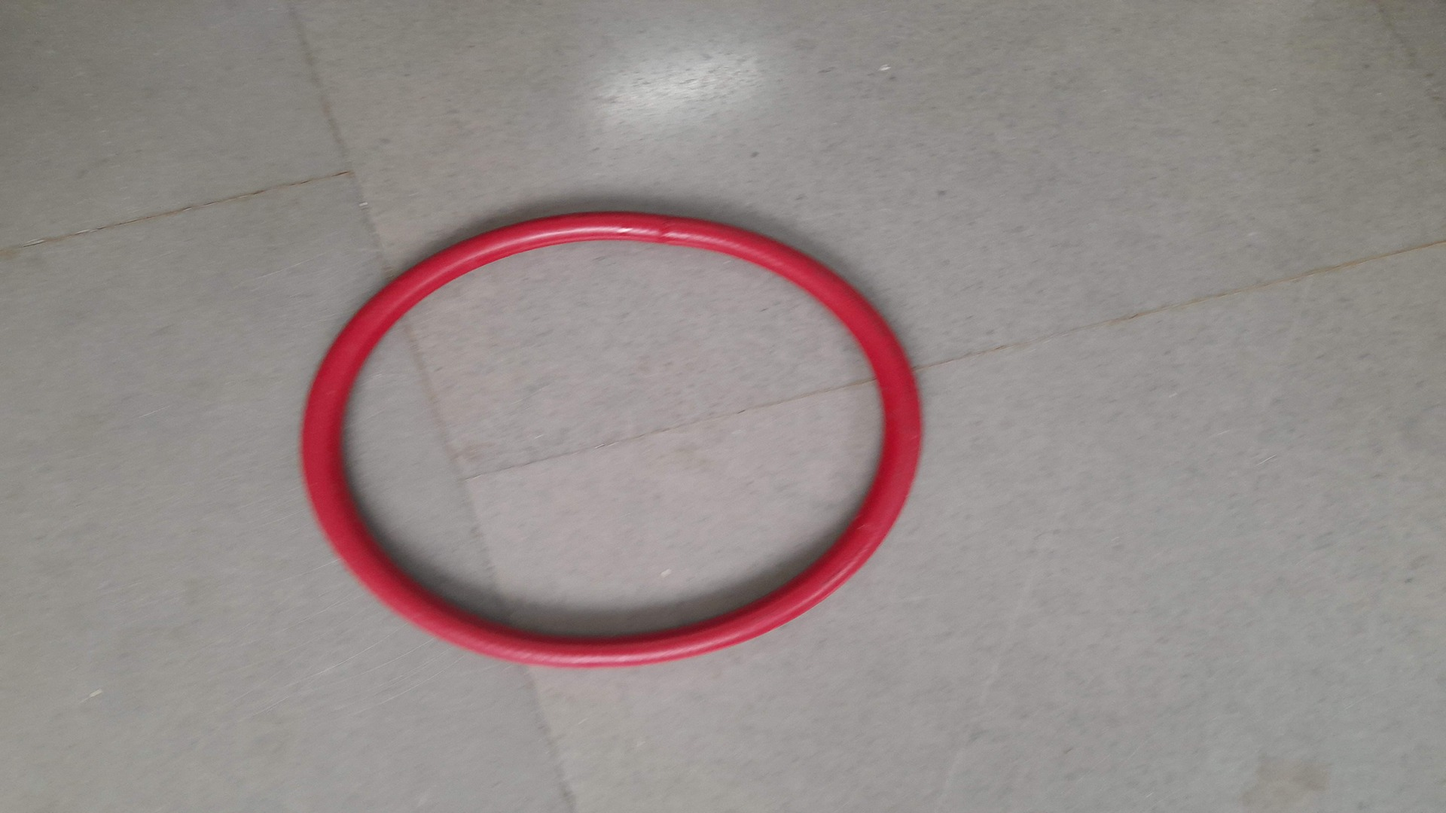Red ring: (304, 214, 923, 666)
